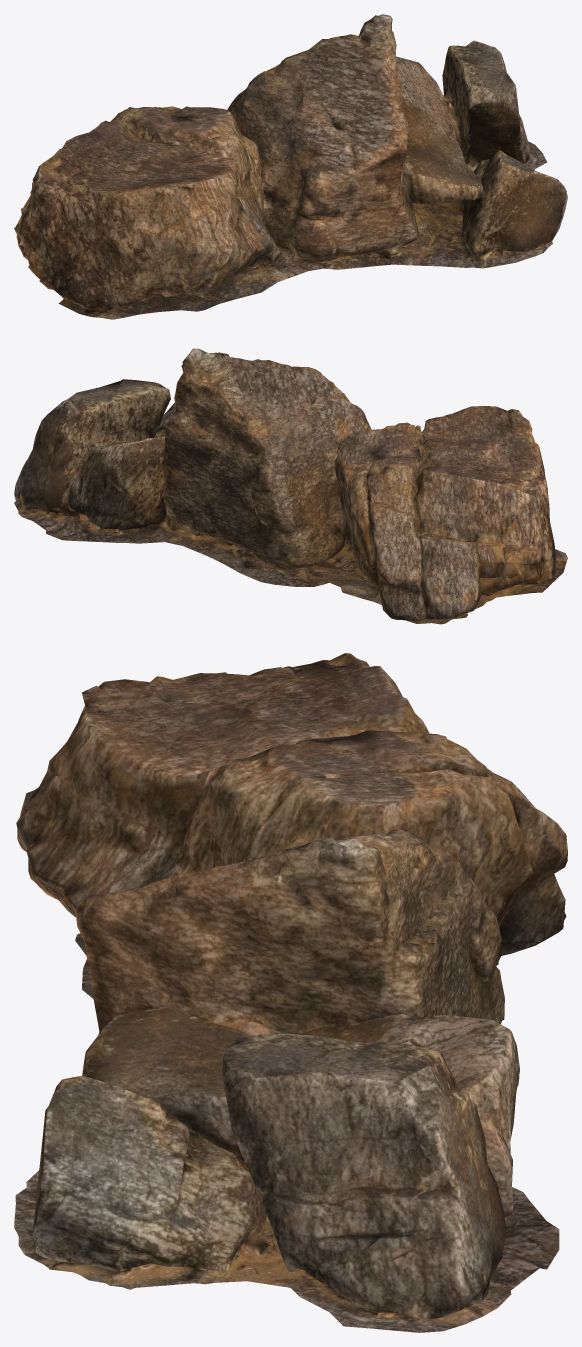
The model's file is namaqualand_boulder_02.glb.
3 views of the same model, one above another, from view 1: azimuth 30°, elevation 25°; view 2: azimuth 150°, elevation 25°; view 3: azimuth 270°, elevation 25° (orthographic). The views are drawn at different scales.
Parts seen in each view (by area): view 1: boulder_02; view 2: boulder_02; view 3: boulder_02.
Boxes of the visible parts, box(x1,y1,x2,y2) form: boulder_02: box(14, 14, 567, 319); boulder_02: box(14, 348, 567, 624); boulder_02: box(14, 653, 567, 1332).
Size of the model in its own units: 2.53 by 0.8804 by 1.23.
Materials: 1 (1 with a texture image).
